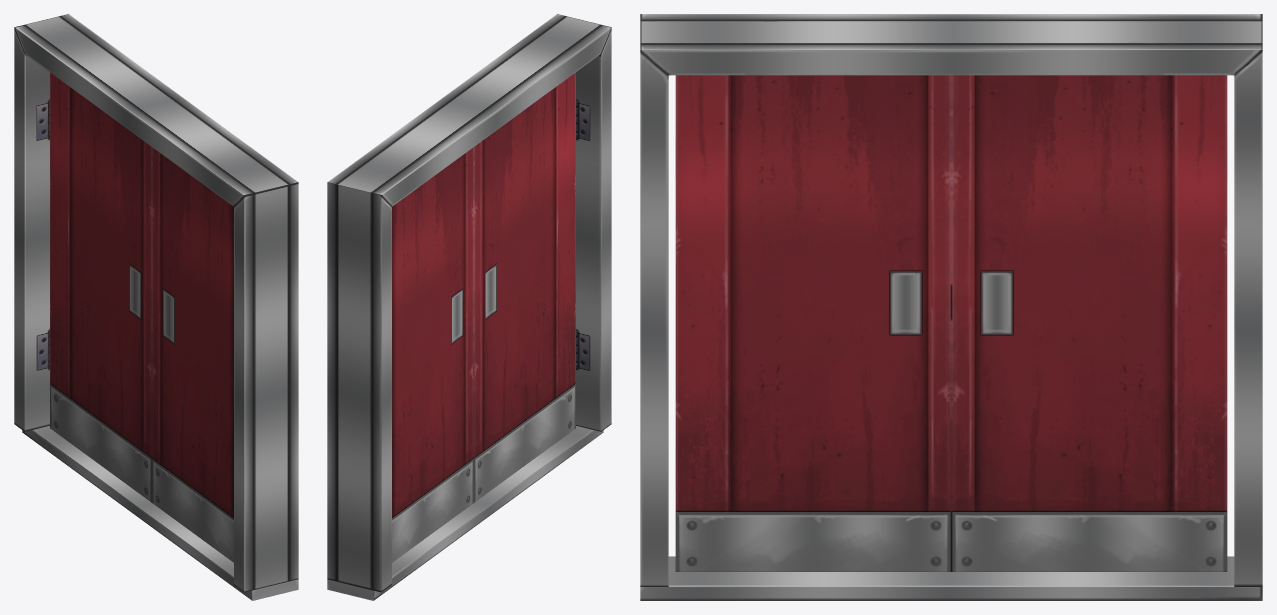
File: door18.FBX
The picture shows the model from 3 angles, left to right: view 1: azimuth 30°, elevation 25°; view 2: azimuth 150°, elevation 25°; view 3: azimuth 270°, elevation 25°; orthographic projection. The views are drawn at different scales.
Parts seen in each view (by area): view 1: door18_frame, door18_L, door18_R; view 2: door18_frame, door18_R, door18_L; view 3: door18_L, door18_R, door18_frame.
Part boxes in pixels (bbox=[...]): door18_frame: bbox=[14, 14, 298, 600]; door18_L: bbox=[50, 72, 151, 502]; door18_R: bbox=[152, 147, 233, 562]; door18_frame: bbox=[327, 14, 611, 600]; door18_R: bbox=[474, 72, 575, 502]; door18_L: bbox=[392, 147, 473, 562]; door18_L: bbox=[951, 75, 1227, 571]; door18_R: bbox=[675, 75, 951, 571]; door18_frame: bbox=[640, 14, 1262, 600].
Bounding box in the file's own units: 30 × 215 × 220.
